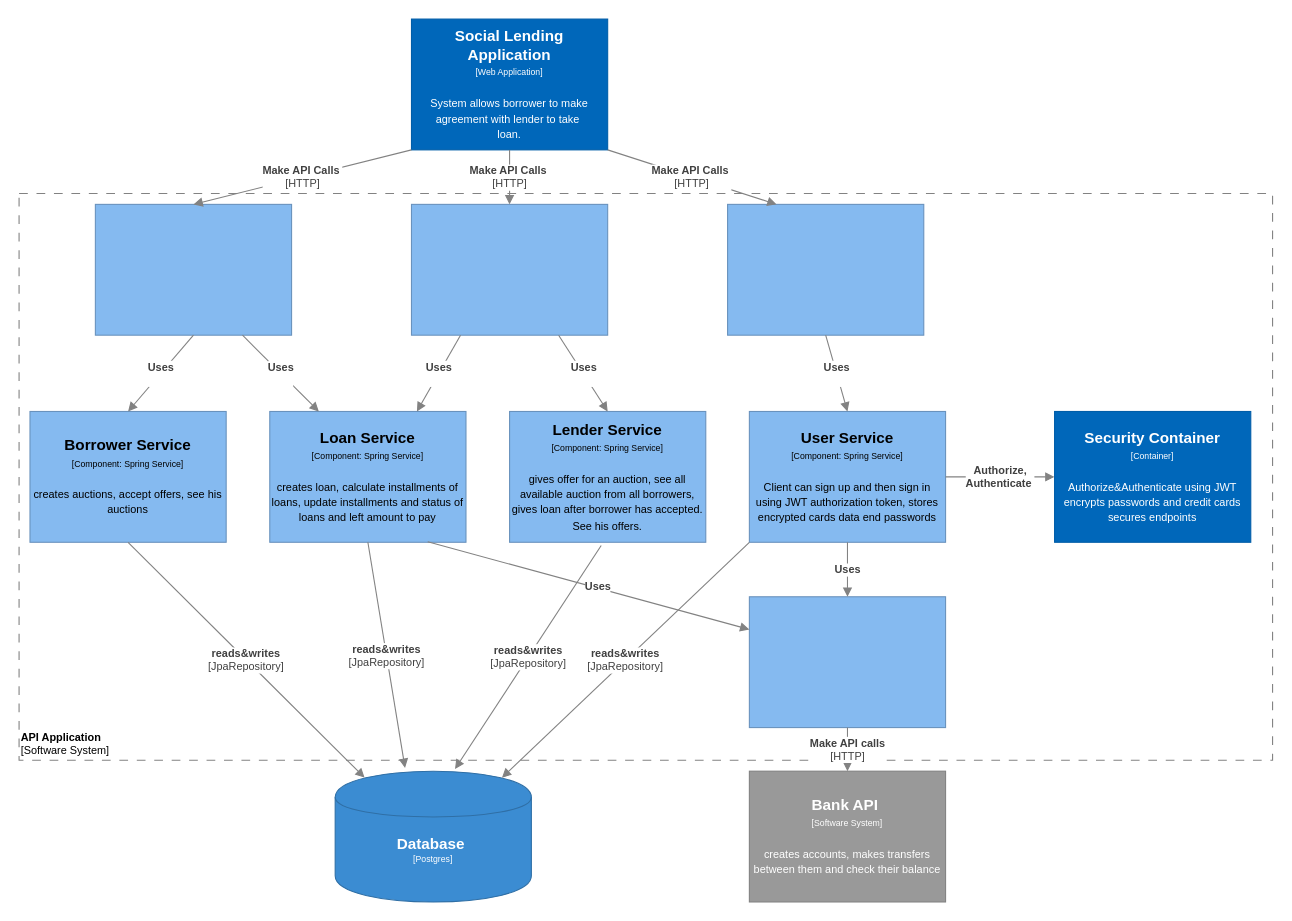
The diagram is 1292 pixels wide and 921 high, and some of its shapes have lost their labels. Here are the shapes that lost their labels. From the top down, the box of each, then its label:
(94, 203, 292, 335): Borrower Controller [Component: Spring REST Controller]
(410, 203, 608, 335): Lender Controller [Component: Spring REST Controller]
(726, 203, 924, 335): User Controller [Component: Spring REST Controller]
(748, 596, 946, 728): Bank Client [Component: Feign Client]
